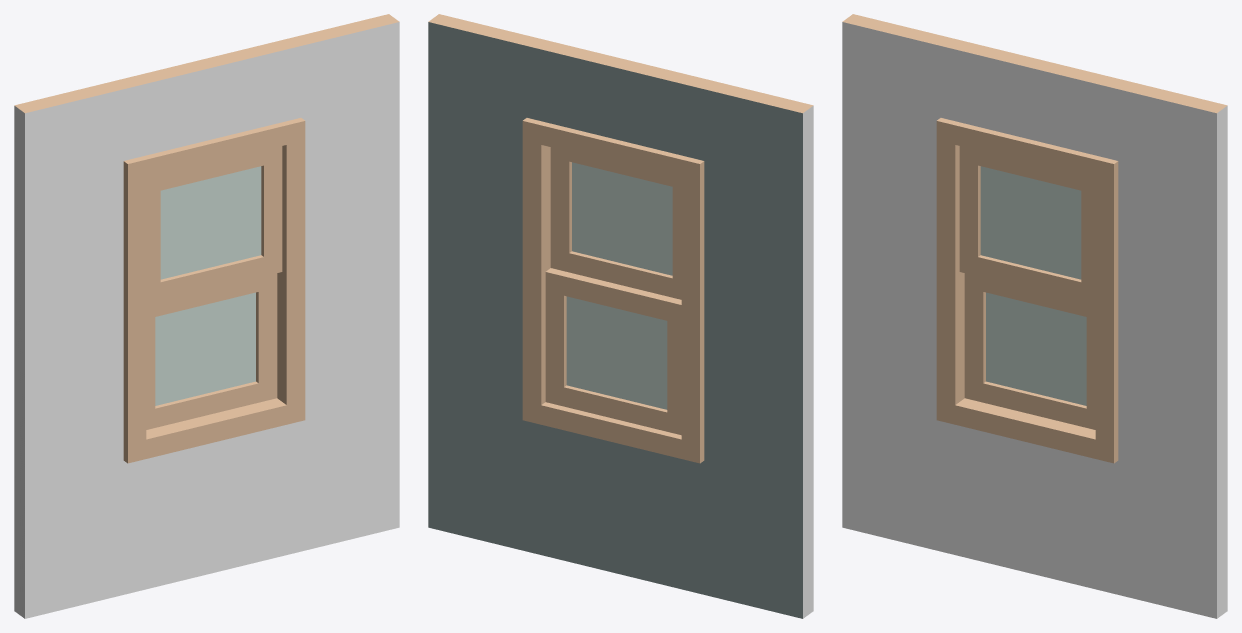
Rendered from wallWindowSlide.glb.
3 renders of one model, left to right at view 1: azimuth 30°, elevation 25°; view 2: azimuth 150°, elevation 25°; view 3: azimuth 330°, elevation 25°, orthographic.
Visible parts, largest first — view 1: wallWindowSlide; view 2: wallWindowSlide; view 3: wallWindowSlide.
Part boxes in pixels (x1=…): wallWindowSlide: x1=14, y1=14, x2=399, y2=618; wallWindowSlide: x1=428, y1=14, x2=813, y2=618; wallWindowSlide: x1=842, y1=14, x2=1227, y2=618.
Bounding box in the file's own units: 1 × 1.29 × 0.0891.
